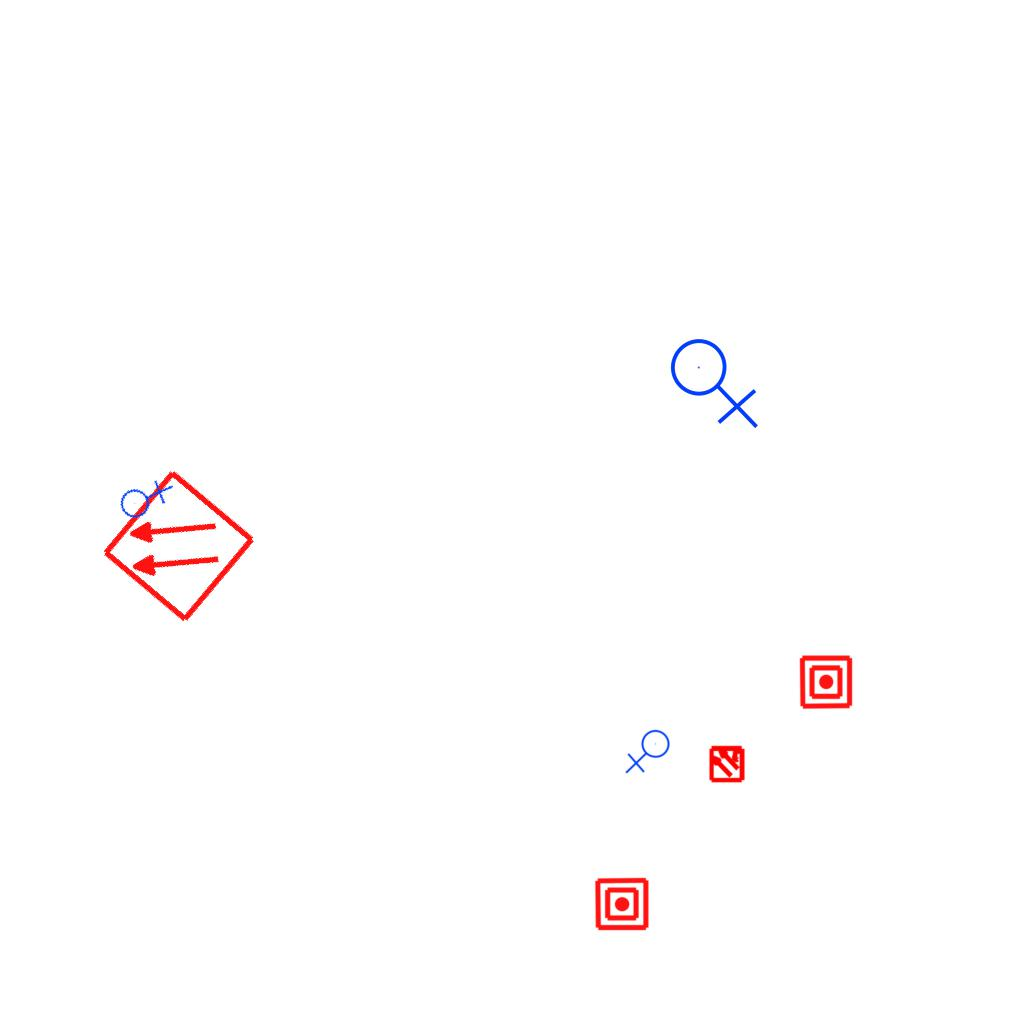Elektroanschluss_allgemein_230V_Geraeteanschlussdose_230V: (669, 330, 763, 429), (112, 467, 175, 528), (625, 729, 674, 776)
NAM-Nichtautomatischer_Melder: (594, 876, 650, 932), (798, 654, 854, 710)
OT_Multisensormelder_(Kombination_RMO_WMD): (699, 735, 755, 791)
RMO_Rauchmelder_optischer: (98, 466, 259, 627)
